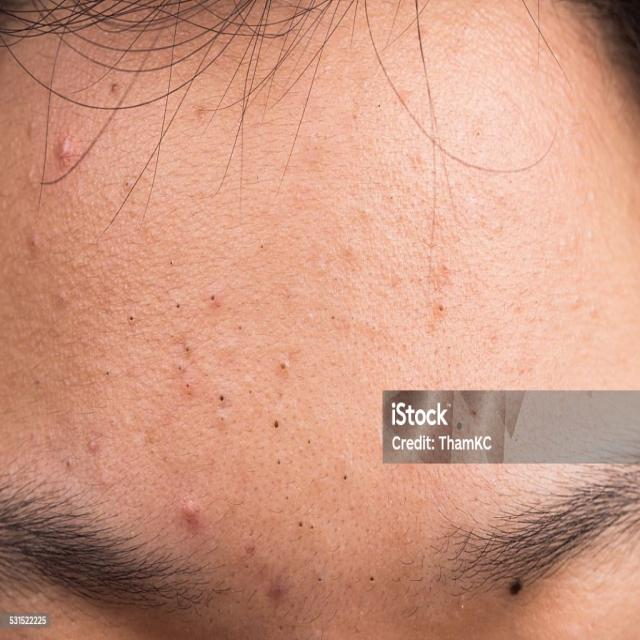blackhead: (24, 214, 399, 614), (341, 97, 391, 141), (385, 184, 426, 234), (435, 293, 455, 321), (470, 121, 486, 145)
pustule: (177, 485, 216, 535), (49, 119, 83, 170)
